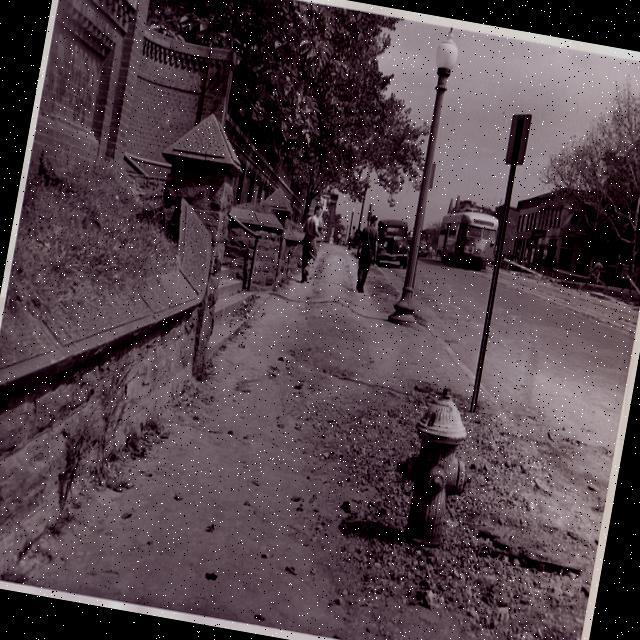fire_hydrant: (381, 378, 493, 552)
